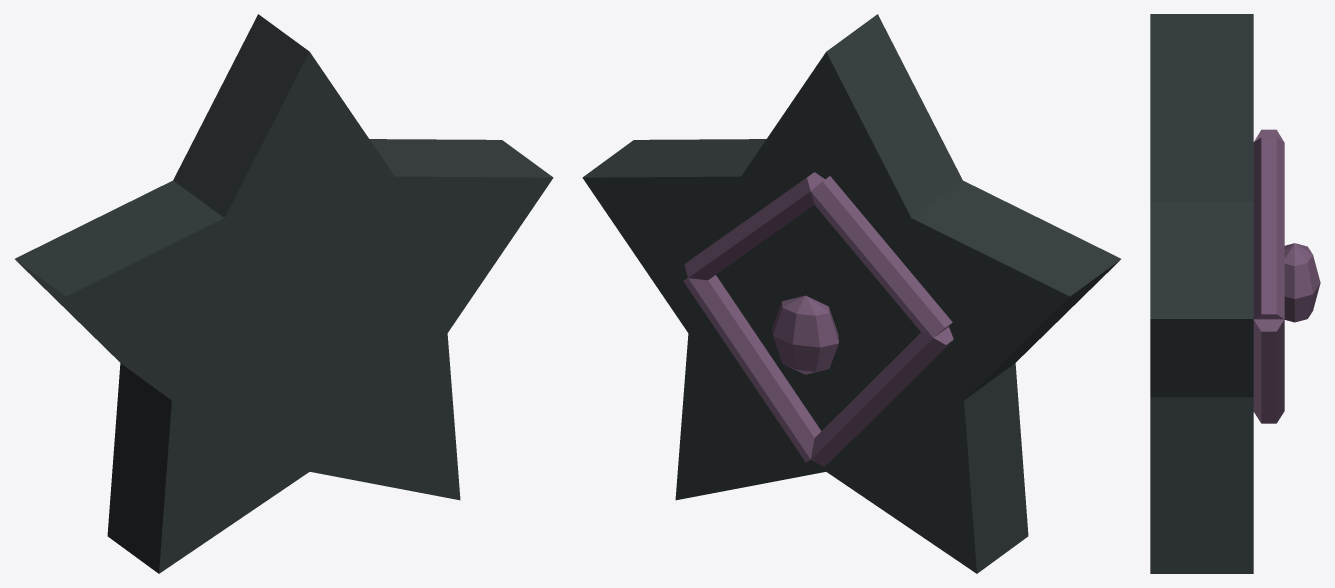
File: AE_Item_StarAsh.fbx
3 views of the same model, side by side, from view 1: azimuth 30°, elevation 25°; view 2: azimuth 150°, elevation 25°; view 3: azimuth 270°, elevation 25° (orthographic).
Parts seen in each view (by area): view 1: AE_Item_StarAsh; view 2: AE_Item_StarAsh; view 3: AE_Item_StarAsh.
Part boxes in pixels (x1,y1,x2,y2): AE_Item_StarAsh: (15,14,553,573); AE_Item_StarAsh: (582,14,1120,573); AE_Item_StarAsh: (1150,14,1320,573).
Bounding box in the file's own units: 0.2187 × 0.208 × 0.066.
